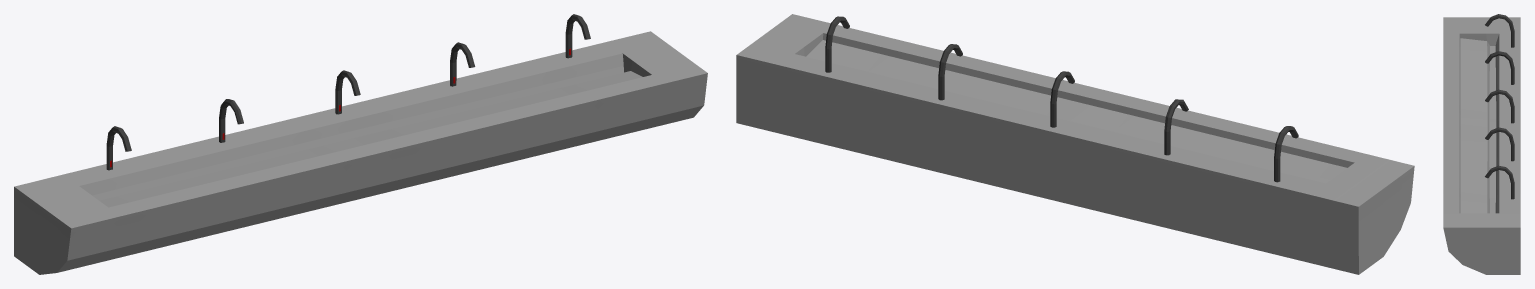
Rendered from Lavamanos.fbx.
3 views of the same model, side by side, from view 1: azimuth 30°, elevation 25°; view 2: azimuth 150°, elevation 25°; view 3: azimuth 270°, elevation 25° (orthographic). The views are drawn at different scales.
Parts seen in each view (by area): view 1: Lavamanos.001; view 2: Lavamanos.001; view 3: Lavamanos.001.
Boxes of the visible parts, left/top/right/bottom form: Lavamanos.001: left=14, top=14, right=707, bottom=274; Lavamanos.001: left=736, top=14, right=1414, bottom=274; Lavamanos.001: left=1443, top=14, right=1520, bottom=274.
Size of the model in its own units: 23.39 by 4.16 by 3.64.
Materials: 1 (1 with a texture image).
